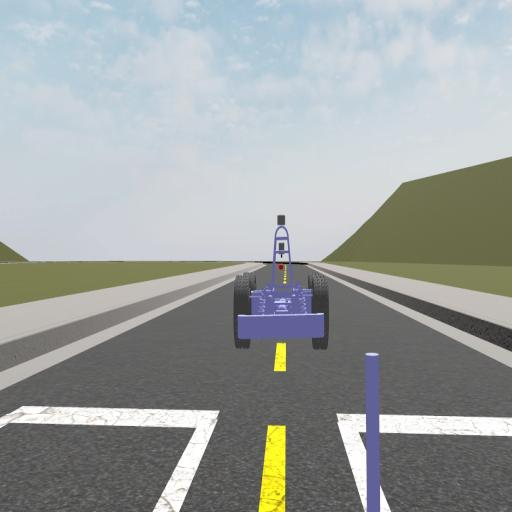ERP-42: (232, 214, 330, 350)
